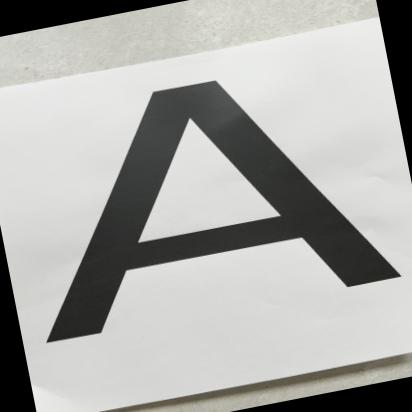seat: (0, 32, 412, 384)
